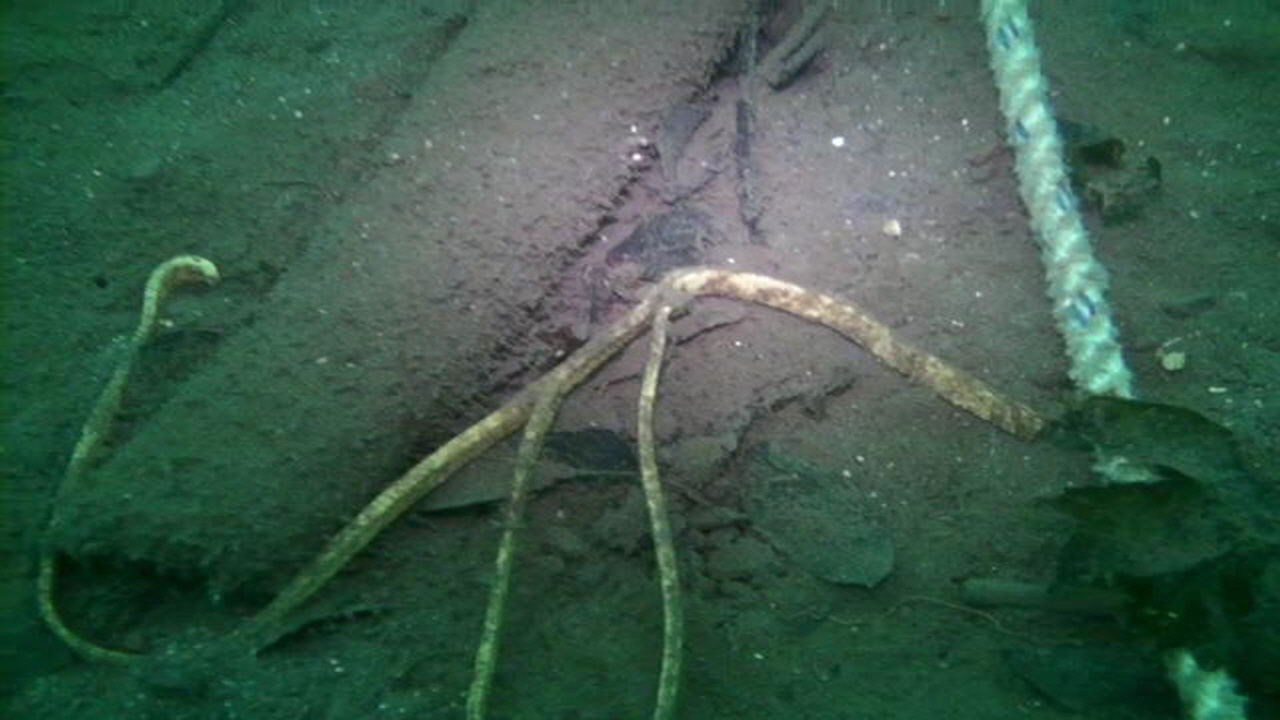rope: (978, 0, 1251, 720)
